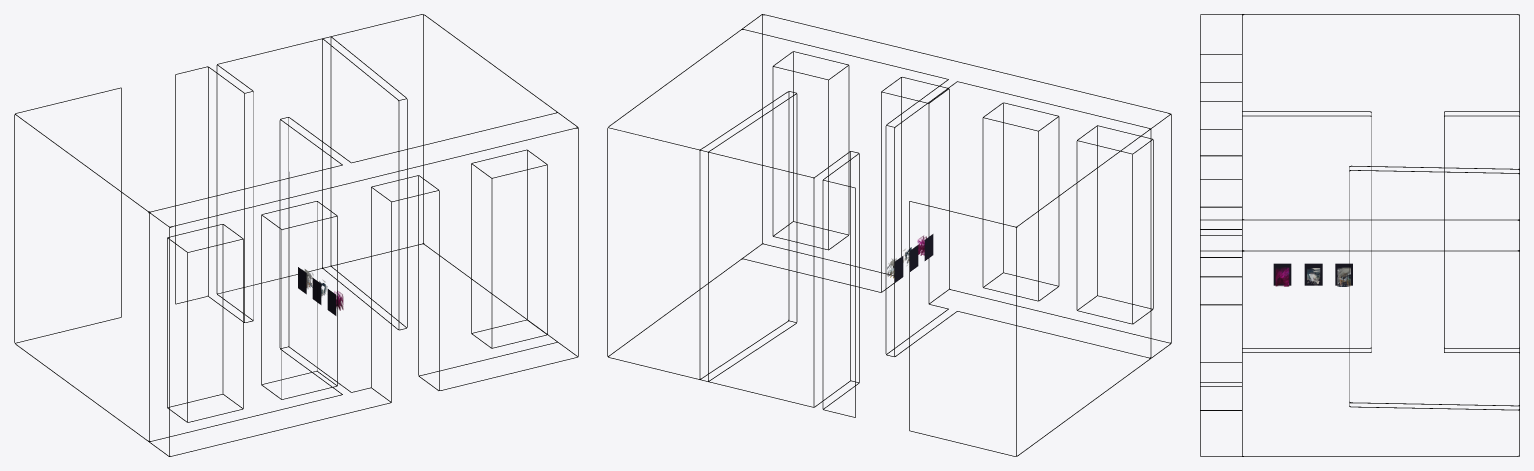
The model's file is insideout.glb.
3 renders of one model, left to right at view 1: azimuth 30°, elevation 25°; view 2: azimuth 150°, elevation 25°; view 3: azimuth 270°, elevation 25°, orthographic. The views are drawn at different scales.
Parts seen in each view (by area): view 1: gallery; view 2: gallery; view 3: gallery.
Boxes of the visible parts, x1,y1,x2,y2 form: gallery: (14, 14, 578, 456); gallery: (607, 14, 1171, 456); gallery: (1200, 14, 1519, 456).
Bounding box in the file's own units: 9 × 4.84 × 5.91.
5 materials, 3 textured.
